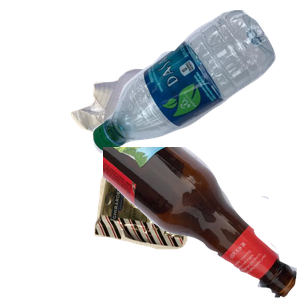glass: (103, 147, 300, 300)
paper: (68, 66, 215, 197)
plastic: (90, 10, 300, 156)
trash: (92, 158, 277, 300)
